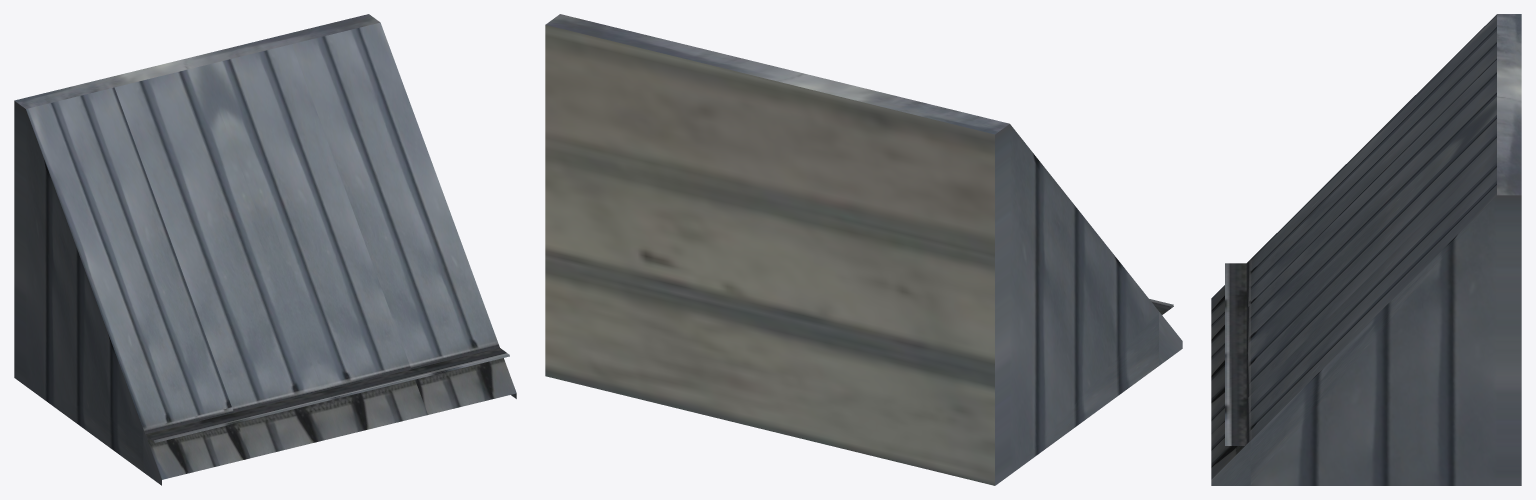
The model's file is yk_tosicoolkattoramppi1.fbx.
3 views of the same model, side by side, from view 1: azimuth 30°, elevation 25°; view 2: azimuth 150°, elevation 25°; view 3: azimuth 270°, elevation 25° (orthographic). The views are drawn at different scales.
Parts seen in each view (by area): view 1: kaunis_kattoramppi; view 2: kaunis_kattoramppi; view 3: kaunis_kattoramppi.
Boxes of the visible parts, bbox=[...] form: kaunis_kattoramppi: bbox=[14, 14, 516, 485]; kaunis_kattoramppi: bbox=[545, 14, 1182, 485]; kaunis_kattoramppi: bbox=[1211, 14, 1521, 485].
Size of the model in its own units: 504 by 376 by 364.
